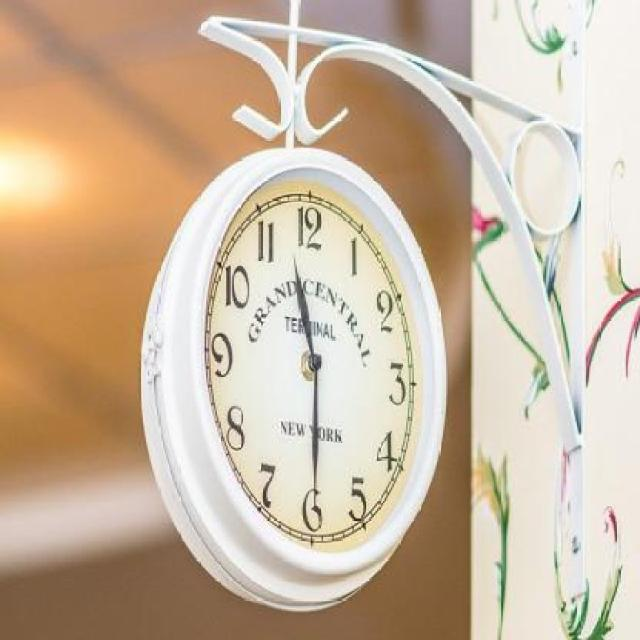clock: (209, 193, 417, 547)
